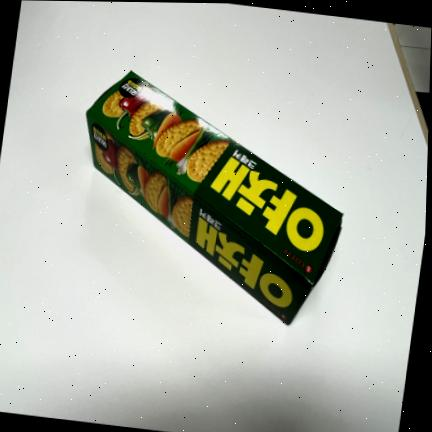cracker_vege: (88, 69, 344, 329)
